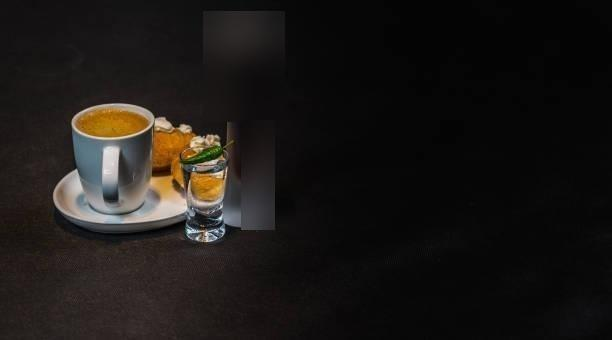cup-handle: (70, 102, 156, 215)
glass-normal: (179, 143, 230, 244)
